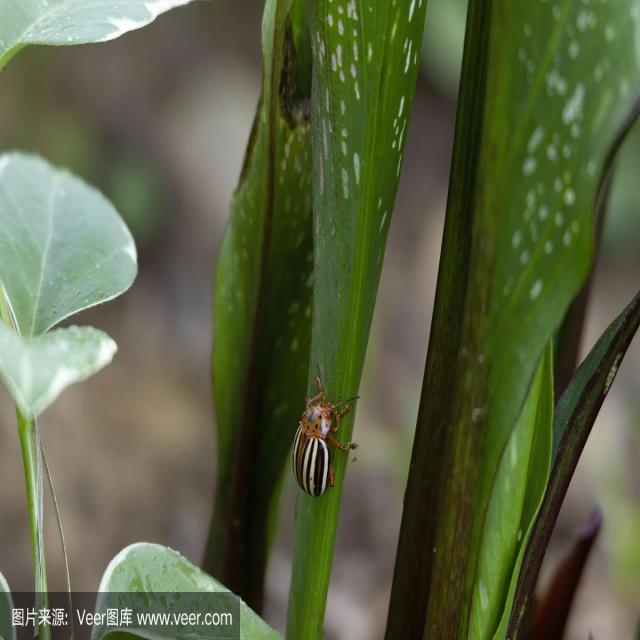ShuCaiHuaBanChong-Grown-: (293, 384, 350, 501)
